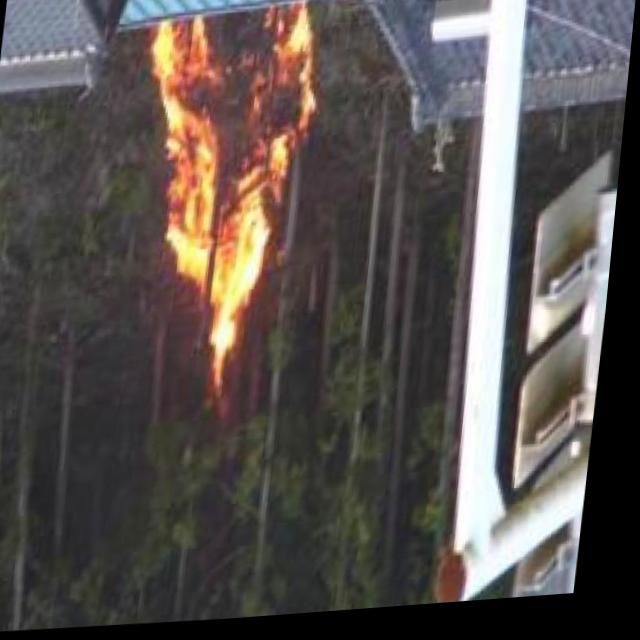Fire: (142, 5, 324, 357)
